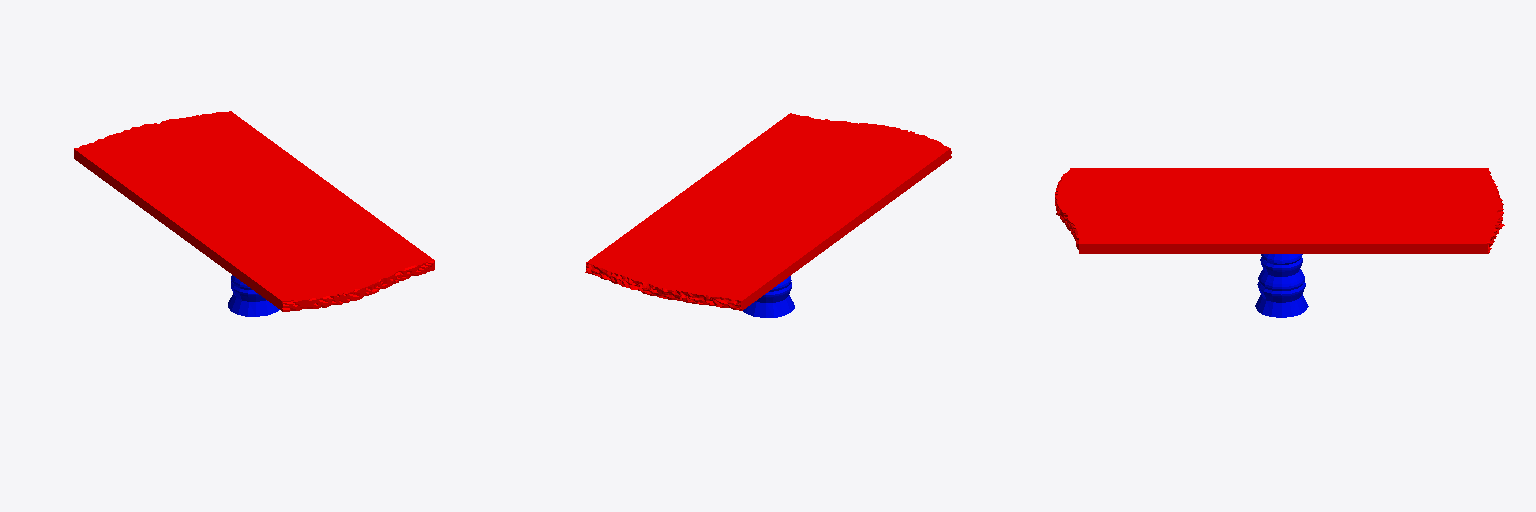
The model's file is table.obj.
3 views of the same model, side by side, from view 1: azimuth 30°, elevation 25°; view 2: azimuth 150°, elevation 25°; view 3: azimuth 270°, elevation 25° (orthographic).
Visible parts, largest first — view 1: table_table; view 2: table_table; view 3: table_table.
Boxes of the visible parts, x1=… form: table_table: x1=74, y1=111, x2=434, y2=316; table_table: x1=585, y1=113, x2=951, y2=317; table_table: x1=1055, y1=168, x2=1504, y2=317.
Size of the model in its own units: 11.99 by 7.35 by 29.81.